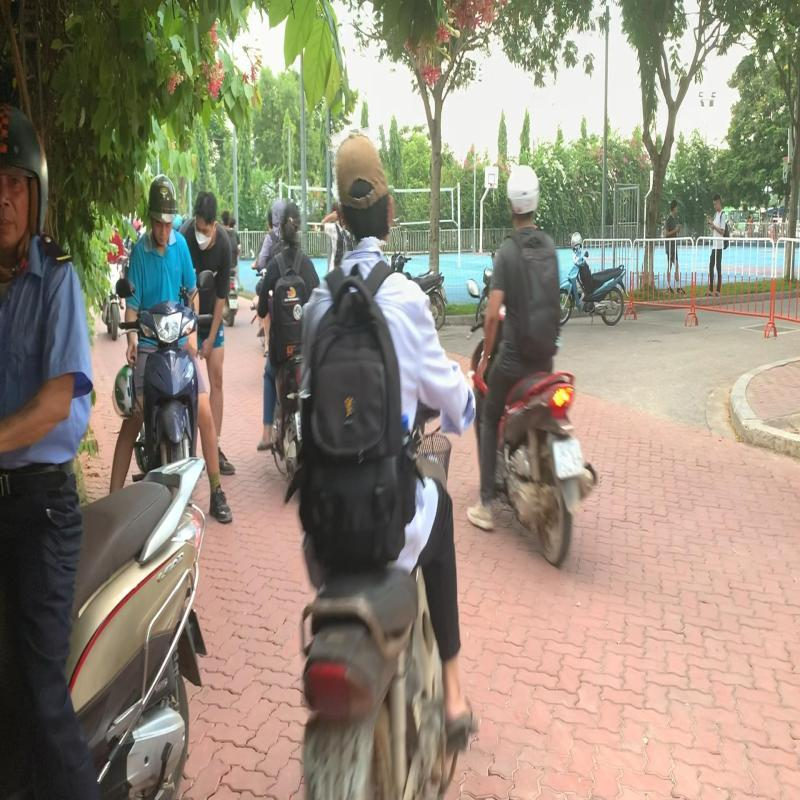nohelmet: (332, 126, 398, 249), (278, 199, 304, 242)
